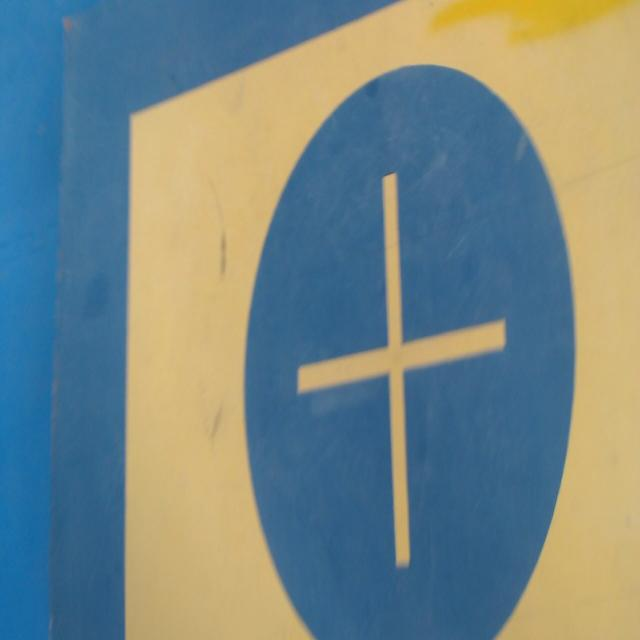base_inicio: (124, 0, 640, 639)
